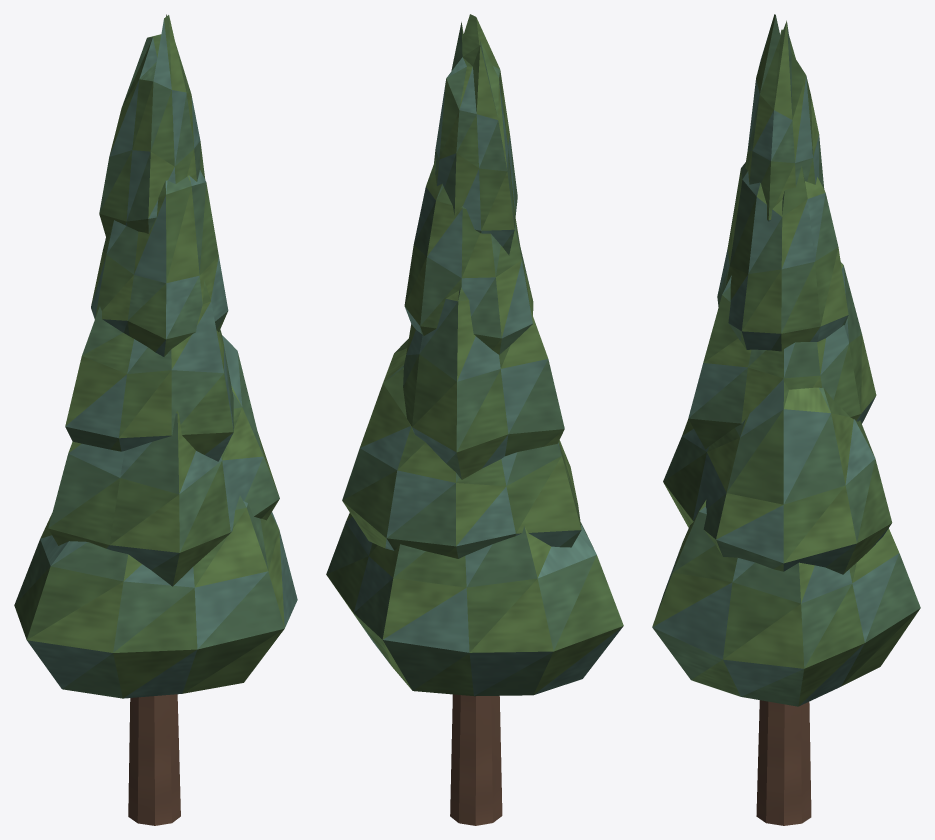
File: tree_pine_03.fbx
3 renders of one model, left to right at view 1: azimuth 30°, elevation 25°; view 2: azimuth 150°, elevation 25°; view 3: azimuth 270°, elevation 25°, orthographic.
Parts seen in each view (by area): view 1: tree_pine_03; view 2: tree_pine_03; view 3: tree_pine_03.
Boxes of the visible parts, x1,y1,x2,y2 form: tree_pine_03: (14, 14, 297, 825); tree_pine_03: (326, 14, 623, 825); tree_pine_03: (652, 14, 920, 825).
Bounding box in the file's own units: 508 × 1390 × 420.
1 material, 1 textured.
